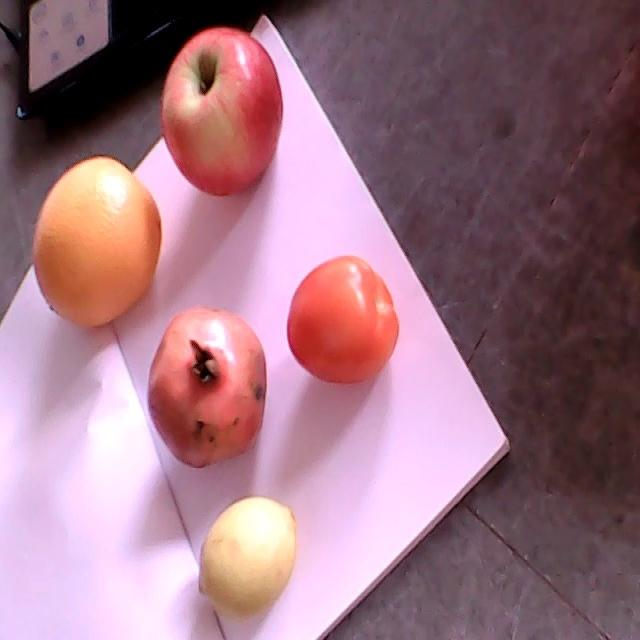apple: (161, 28, 282, 197)
lemon: (199, 497, 296, 618)
orange: (33, 156, 161, 329)
pomegranate: (147, 309, 267, 468)
tomato: (288, 256, 399, 382)
